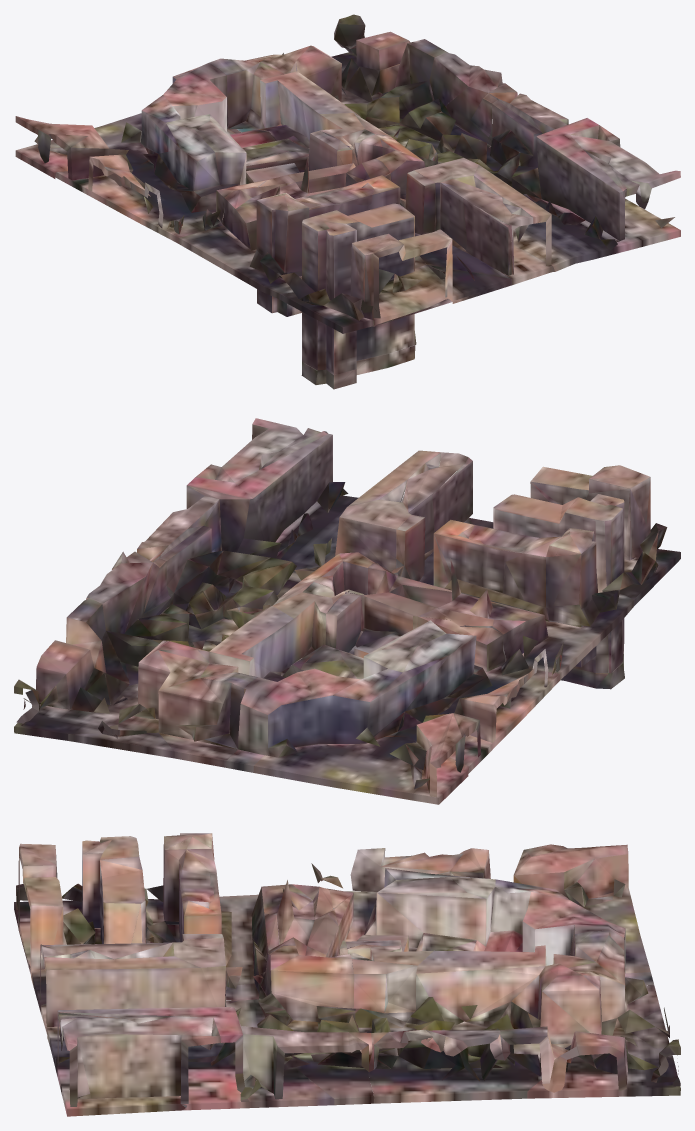
3 renders of one model, top to bottom at view 1: azimuth 30°, elevation 25°; view 2: azimuth 150°, elevation 25°; view 3: azimuth 270°, elevation 25°, orthographic. The views are drawn at different scales.
Parts seen in each view (by area): view 1: Mesh_0; view 2: Mesh_0; view 3: Mesh_0.
Boxes of the visible parts, bbox=[...] form: Mesh_0: bbox=[15, 14, 680, 389]; Mesh_0: bbox=[14, 418, 680, 804]; Mesh_0: bbox=[14, 833, 680, 1116].
Size of the model in its own units: 267 by 96.73 by 330.
Materials: 1 (1 with a texture image).
